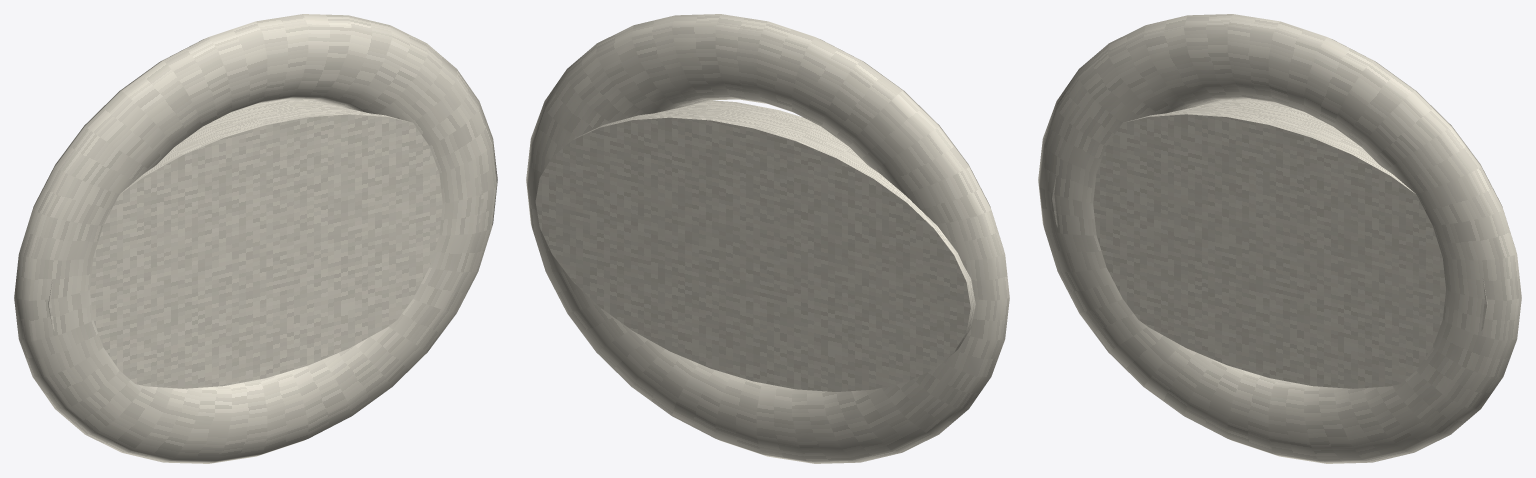
The model's file is plate.glb.
3 views of the same model, side by side, from view 1: azimuth 30°, elevation 25°; view 2: azimuth 150°, elevation 25°; view 3: azimuth 330°, elevation 25° (orthographic).
Visible parts, largest first — view 1: lip, base; view 2: base, lip; view 3: lip, base.
Part boxes in pixels (x1,y1,x2,y2): lip: (14, 14, 497, 463); base: (48, 99, 483, 388); base: (535, 100, 975, 391); lip: (526, 14, 1009, 463); lip: (1038, 14, 1521, 463); base: (1052, 99, 1487, 388).
Size of the model in its own units: 0.25 by 0.215 by 0.0234.
Materials: 1 (1 with a texture image).
